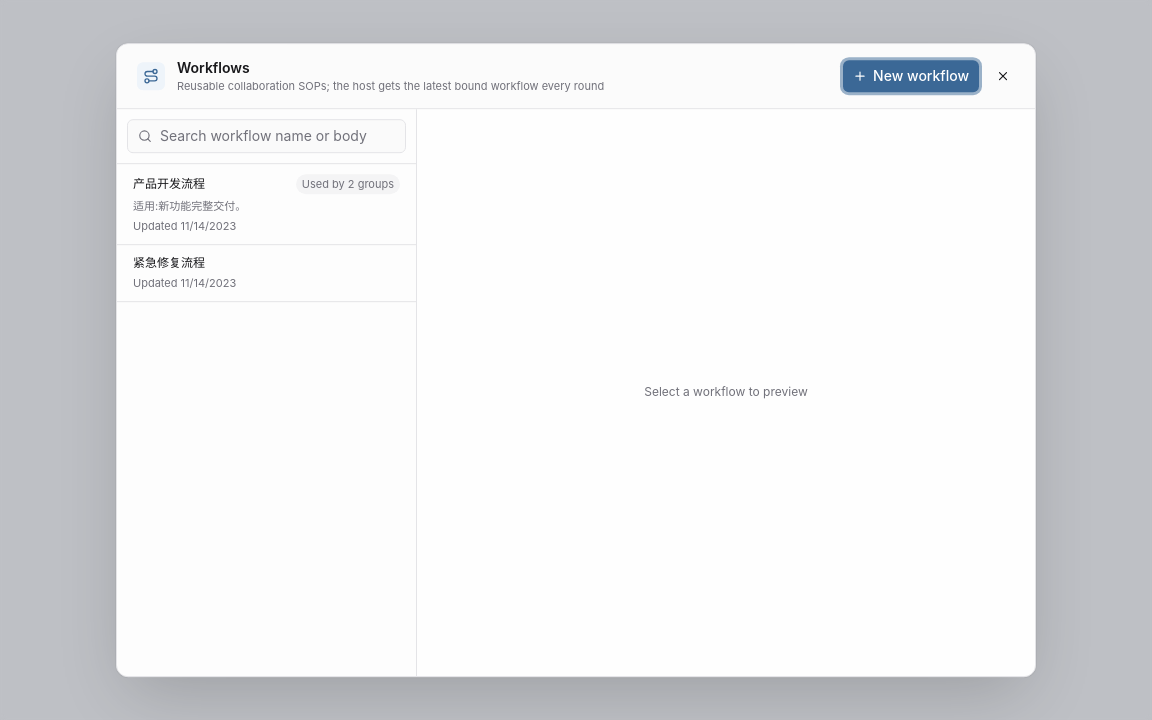
Test: WorkflowManagerDialog · 浏览态 › openBrowse 渲染列表行 + 选中后右栏预览正文
Expected: the text "产品开发流程" is shown, [133, 176, 205, 191]
Expected: the text "Select a workflow to preview" is shown, [644, 384, 808, 400]
Click the button with test id "workflow-row-1". click: (169,184)
box: [117, 164, 416, 245]
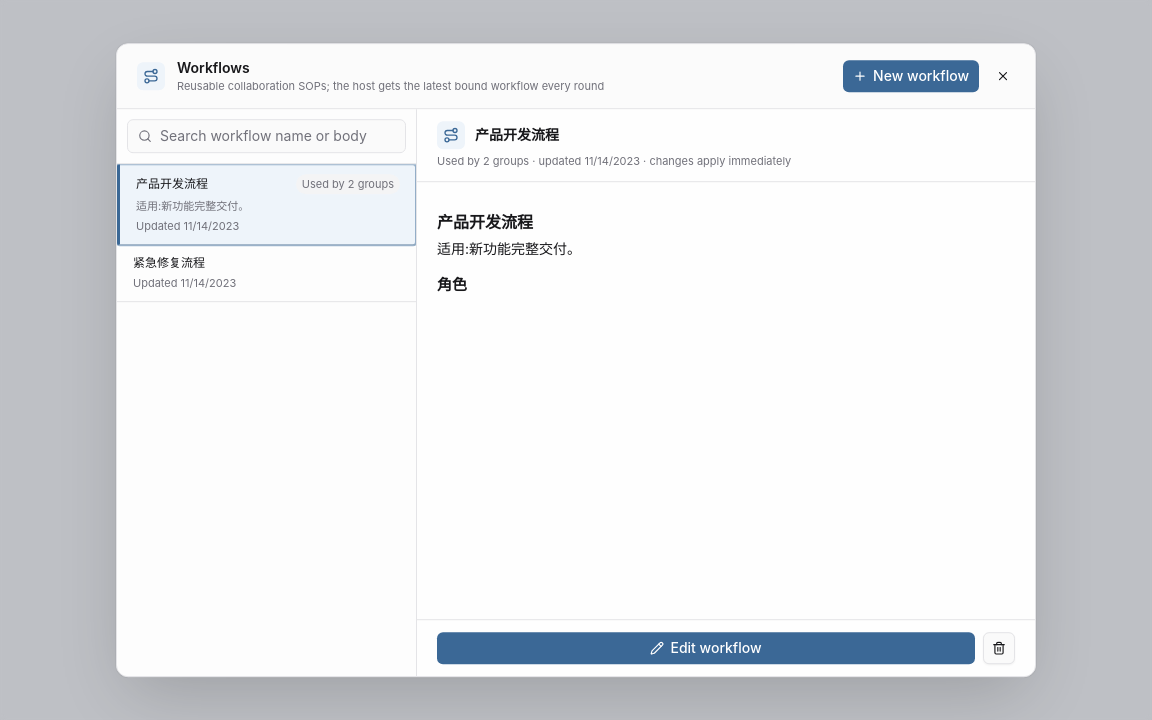
Expected: the 2nd heading "产品开发流程" is shown, [437, 212, 533, 232]
